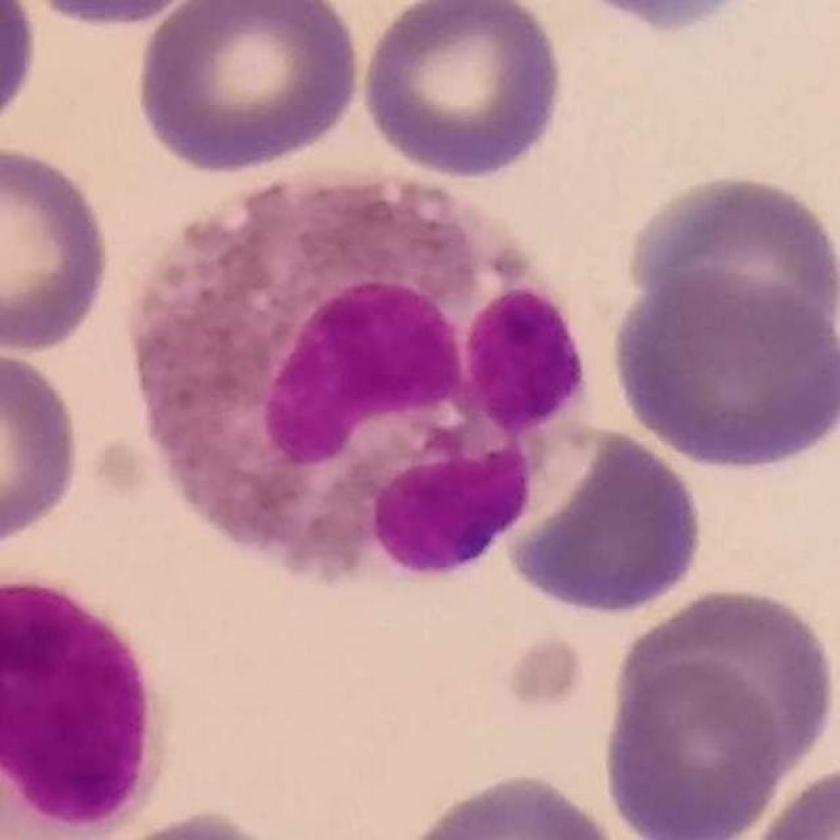eosinophil: (134, 173, 585, 582)
